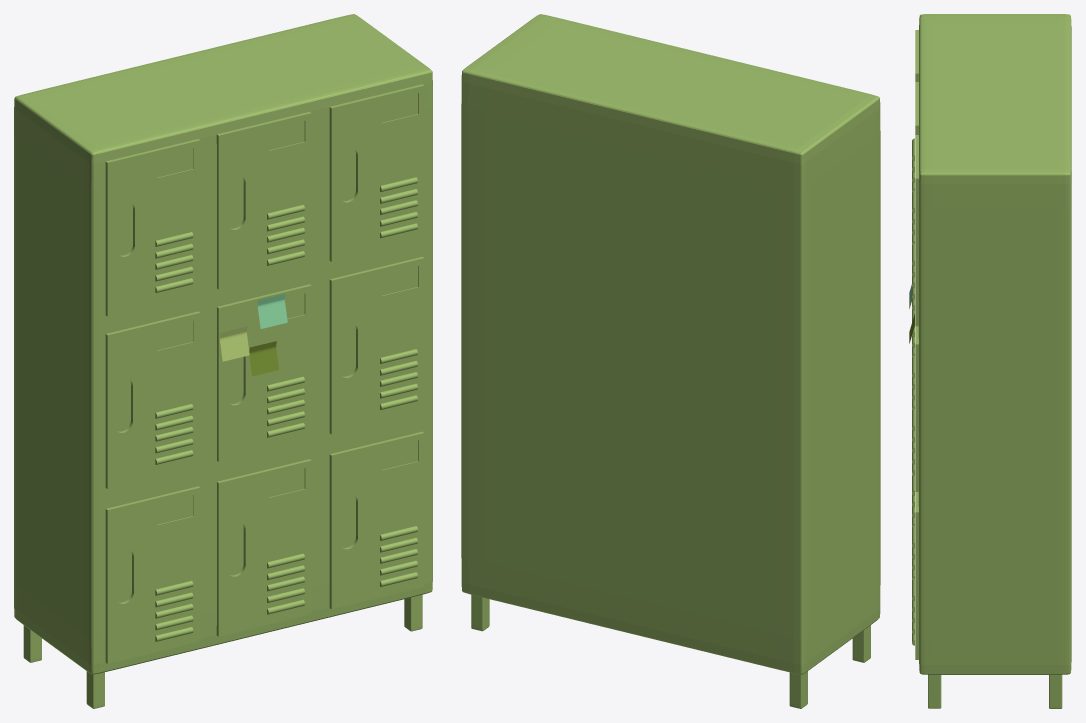
The model's file is Locker.glb.
The picture shows the model from 3 angles, left to right: view 1: azimuth 30°, elevation 25°; view 2: azimuth 150°, elevation 25°; view 3: azimuth 270°, elevation 25°; orthographic projection. The views are drawn at different scales.
Parts seen in each view (by area): view 1: Lock1, Lock47, Lock53, Lock54, Lock50, Lock51, Lock55, Lock48, Lock49, Lock52, pPlane6, pPlane7 (+2 smaller); view 2: Lock1, Lock_2; view 3: Lock1, Lock54, Lock50, Lock51, Lock56, Lock_1.
Part boxes in pixels (bbox=[...]): Lock1: bbox=[14, 14, 432, 674]; Lock47: bbox=[105, 139, 200, 316]; Lock53: bbox=[105, 311, 200, 488]; Lock54: bbox=[329, 84, 424, 261]; Lock50: bbox=[329, 431, 424, 609]; Lock51: bbox=[329, 256, 424, 434]; Lock55: bbox=[216, 112, 311, 289]; Lock48: bbox=[105, 486, 200, 663]; Lock49: bbox=[216, 459, 311, 636]; Lock52: bbox=[217, 284, 311, 461]; pPlane6: bbox=[219, 326, 249, 361]; pPlane7: bbox=[249, 341, 278, 376]; Lock1: bbox=[461, 14, 880, 674]; Lock_2: bbox=[789, 671, 807, 708]; Lock1: bbox=[918, 14, 1071, 674]; Lock54: bbox=[915, 135, 918, 326]; Lock50: bbox=[915, 492, 918, 659]; Lock51: bbox=[915, 326, 918, 491]; Lock56: bbox=[928, 674, 941, 708]; Lock_1: bbox=[1049, 674, 1062, 708].
Size of the model in its own units: 6.72 by 10.52 by 2.88.
